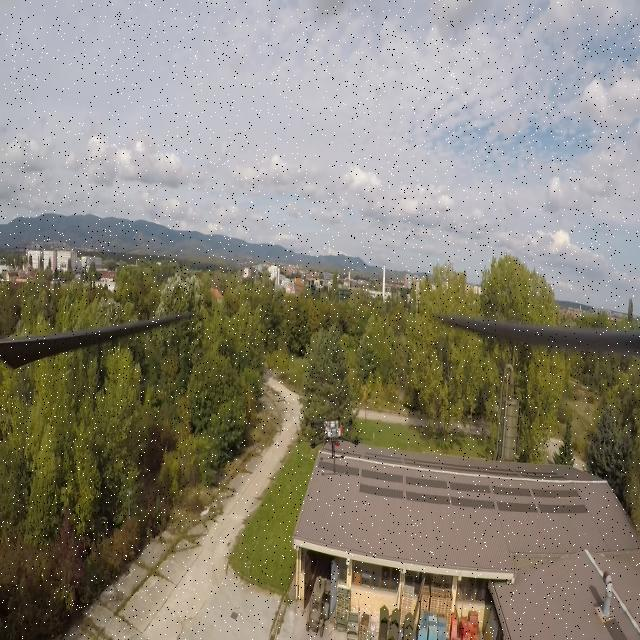UAV: (305, 412, 367, 478)
